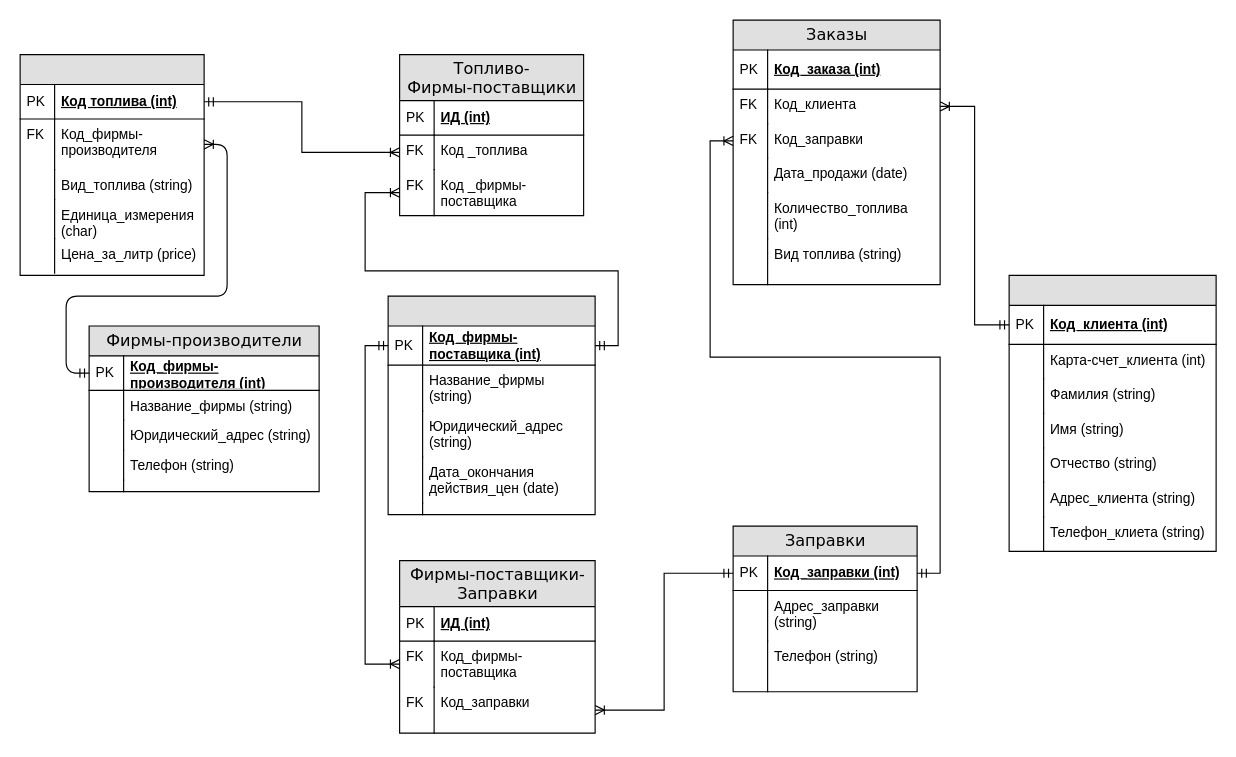
This 1236x757 diagram has some shape labels left out. The box of each missing label's shape, as (x1, y1, x2, y2) in pixels:
Клиетны: (1008, 274, 1216, 551)
Топливо: (19, 53, 204, 275)
Фирмы-поставщики: (387, 295, 595, 515)
